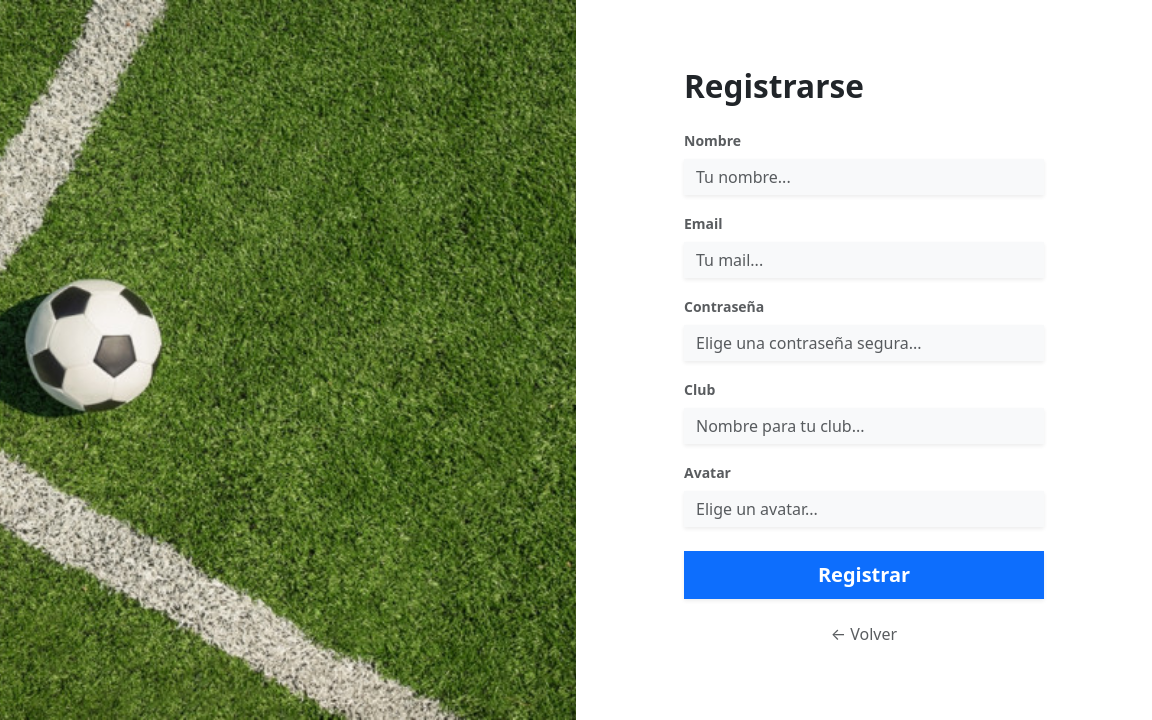
Test: FormRegistro › muestra un error cuando el email tiene un formato inválido
Type "correo-invalido" into the field labelled "Email".
click(864, 260); type("correo-invalido")  # box [684,242,1044,278]
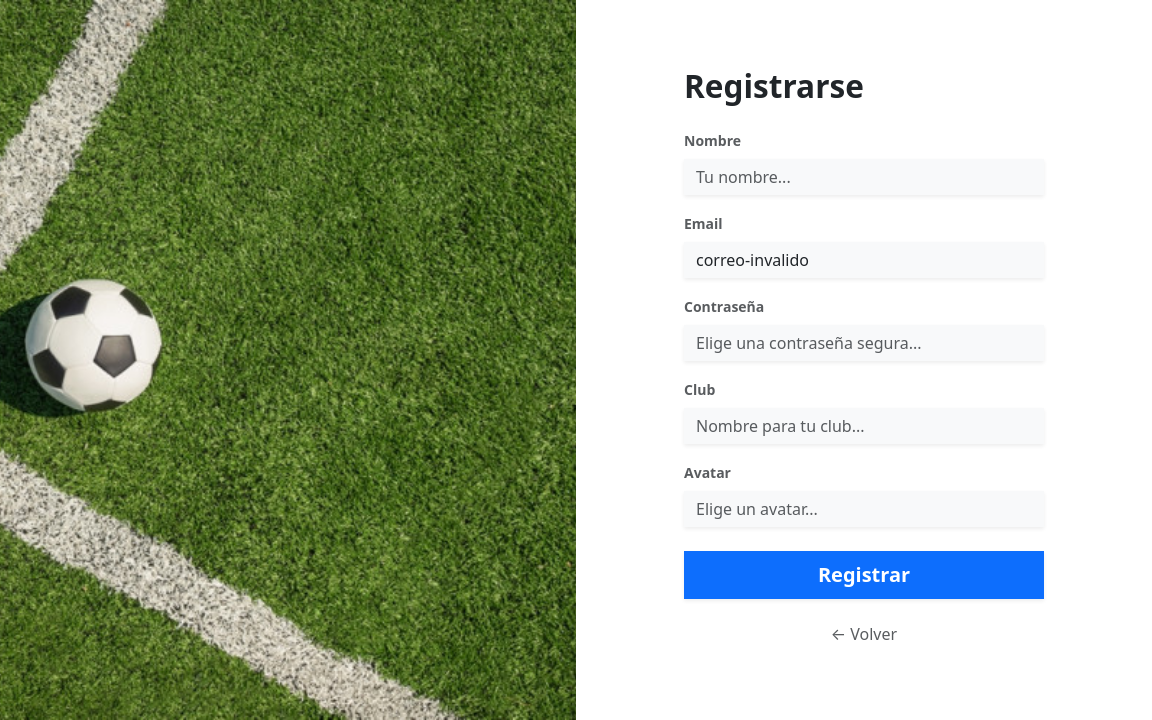
Click the button "Registrar".
click(864, 575)  # box [684,551,1044,599]
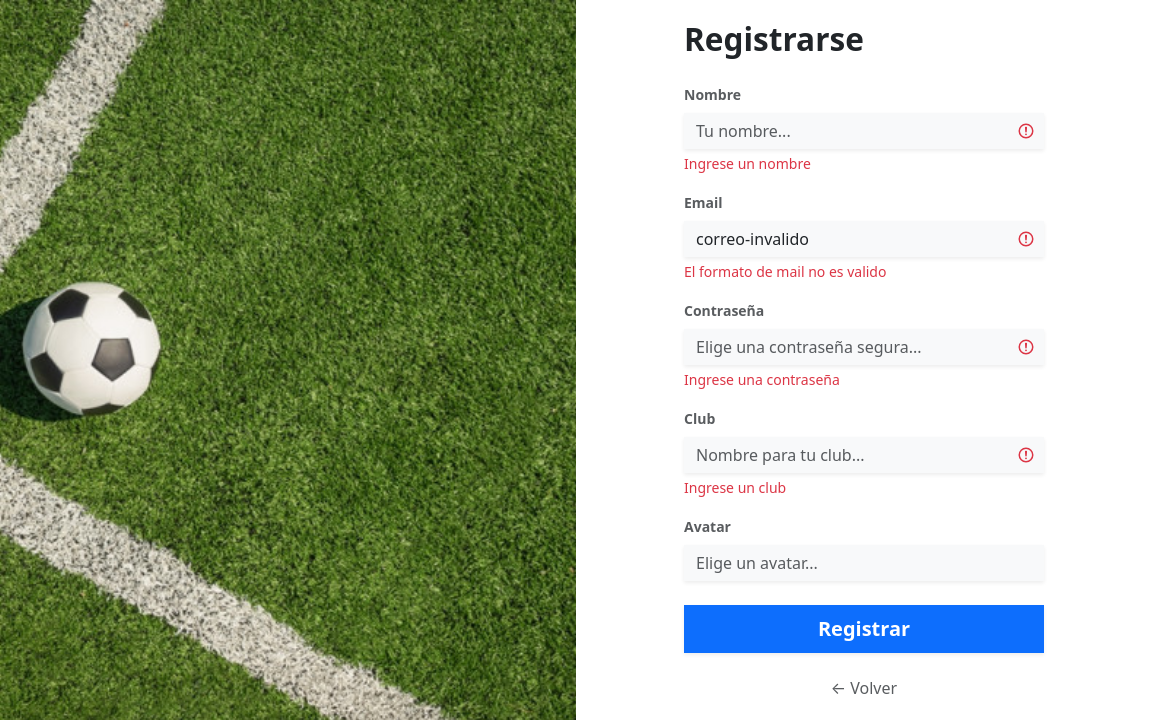
Check: the text "El formato de mail no es valido" is shown, box [684,262,886,281]
